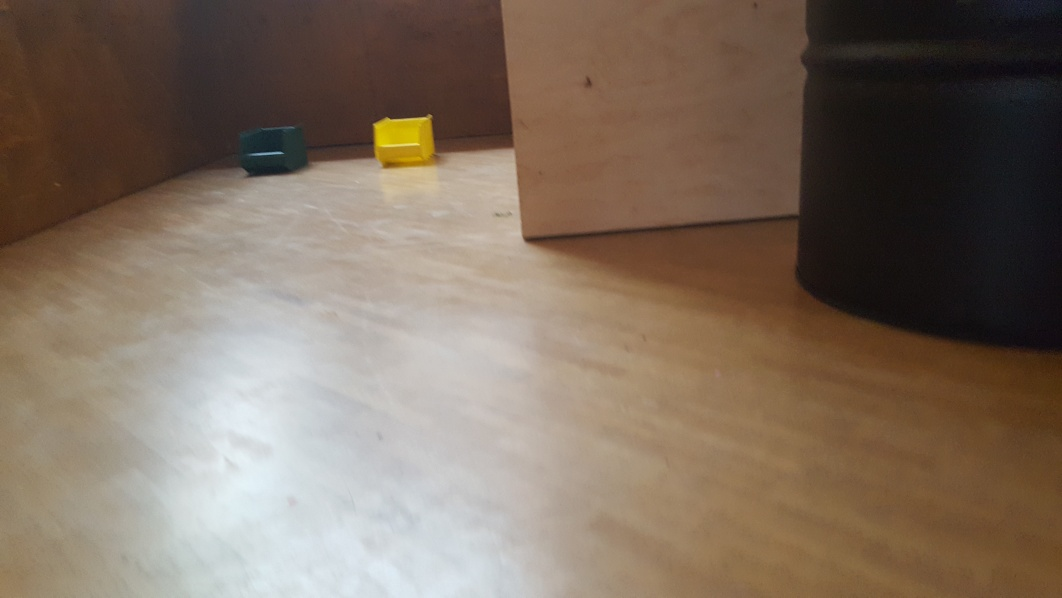tray: (235, 123, 307, 173), (367, 116, 440, 163)
